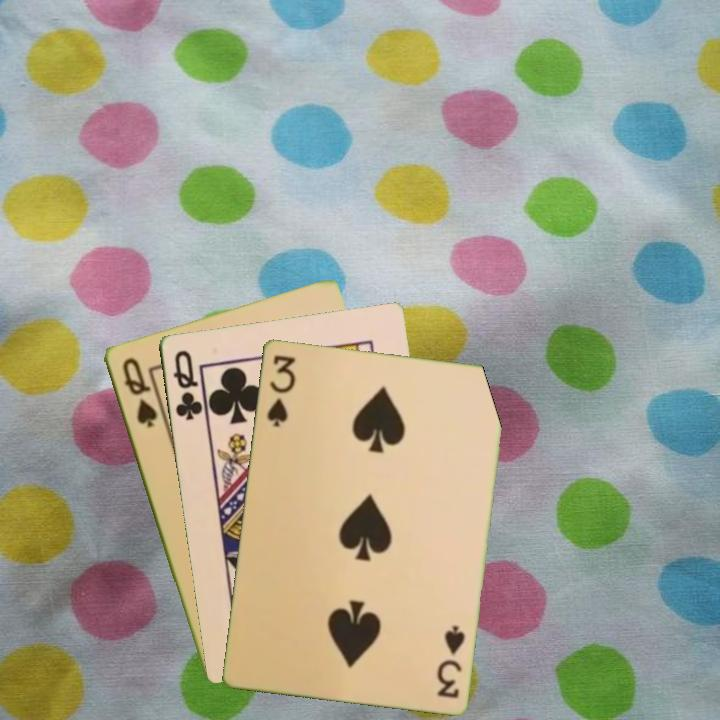3s: (433, 621, 468, 701), (263, 351, 298, 430)
Qc: (169, 346, 205, 423)
Qs: (118, 353, 160, 430)
